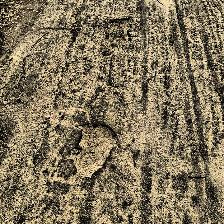pothole: (70, 120, 119, 180), (104, 17, 132, 47)
